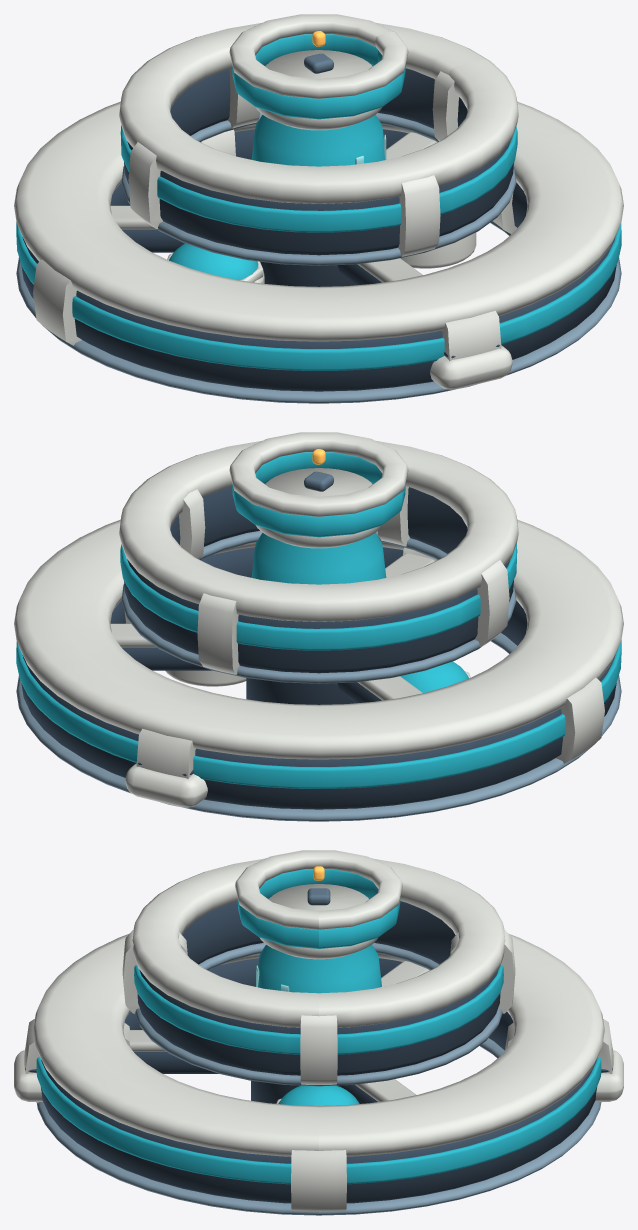
File: colony_ring_lv5.glb
3 renders of one model, top to bottom at view 1: azimuth 30°, elevation 25°; view 2: azimuth 150°, elevation 25°; view 3: azimuth 270°, elevation 25°, orthographic. The views are drawn at different scales.
Parts seen in each view (by area): view 1: Structure; view 2: Structure; view 3: Structure.
Boxes of the visible parts, bbox=[...] form: Structure: bbox=[14, 14, 623, 403]; Structure: bbox=[14, 432, 623, 821]; Structure: bbox=[14, 850, 623, 1215].
Size of the model in its own units: 9.26 by 4.33 by 9.58.
